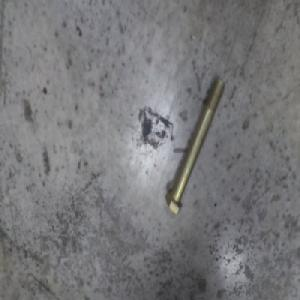Bolt: (165, 77, 224, 214)
